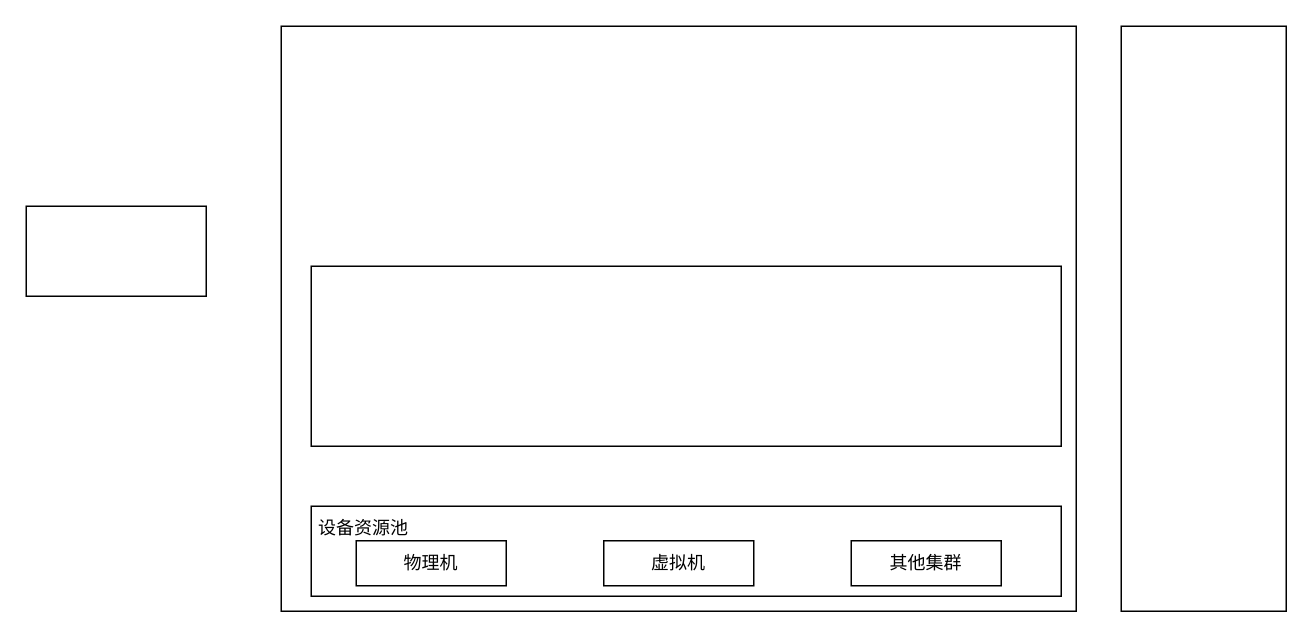
Some shapes in this 1313 by 638 pixel diagram are drawn without their labels. Each missing label, with the centre of its shape:
离线源 Offline: (x=115, y=250)
统一用户管理 & 运维: (x=1203, y=318)
